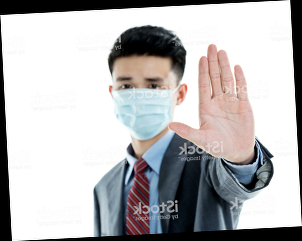with_mask: (113, 71, 178, 142)
